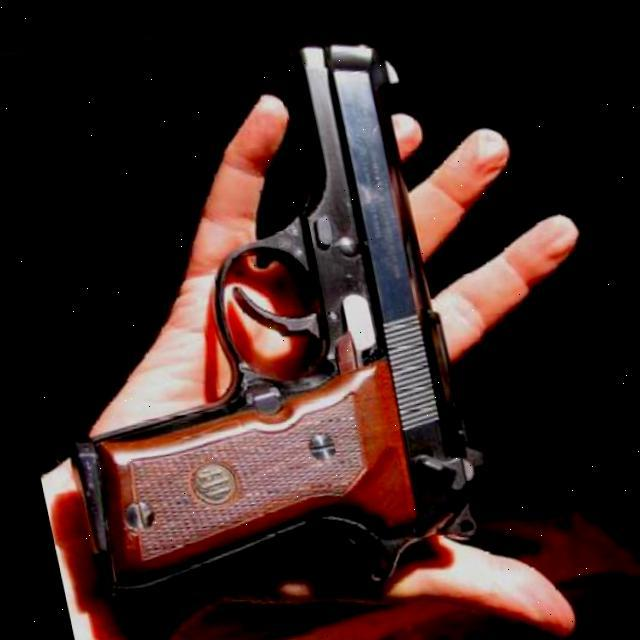gun: (1, 11, 504, 626)
